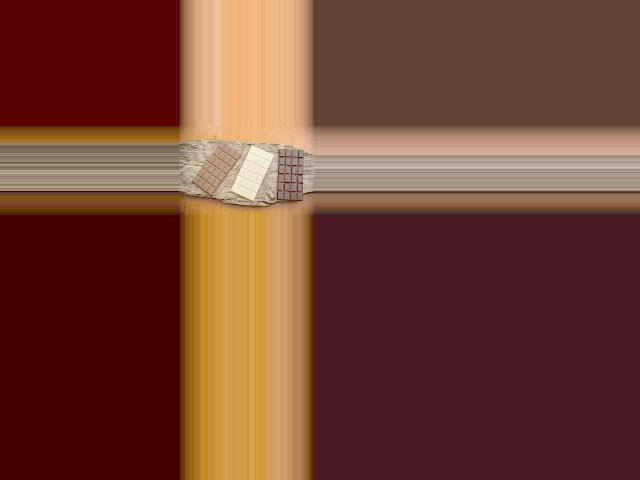chocolate: (277, 149, 304, 201)
